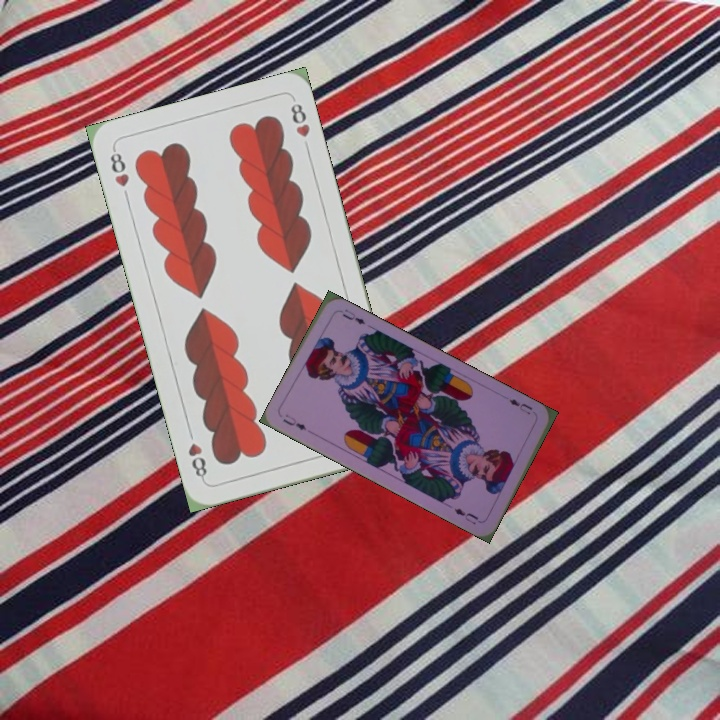EU: (279, 410, 309, 433), (505, 395, 535, 417)
H8: (106, 144, 132, 190)
